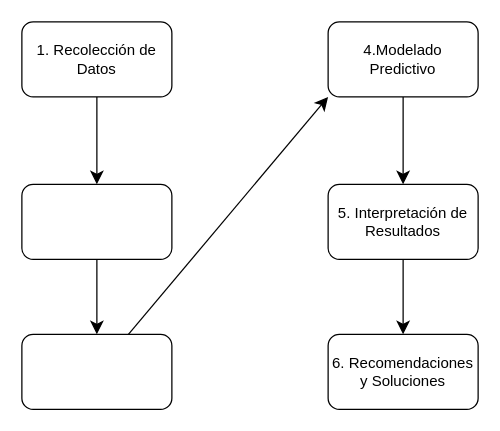
Some shapes in this 500 by 431 pixel diagram are drawn without their labels. Here are the shapes that lost their labels. From the top down, the box of each, then its label:
(21, 183, 172, 259): 2. Limpieza y Preprocesamiento
(21, 333, 172, 409): 3. Análisis Exploratorio (EDA)
